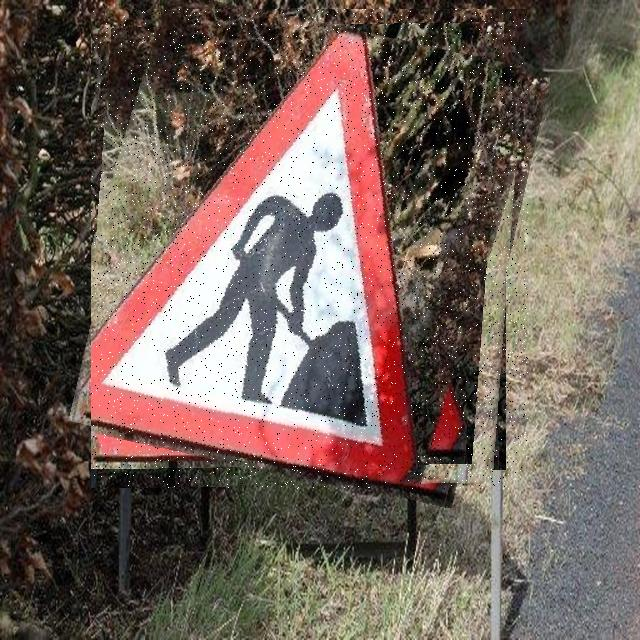roadwork: (91, 9, 528, 489)
